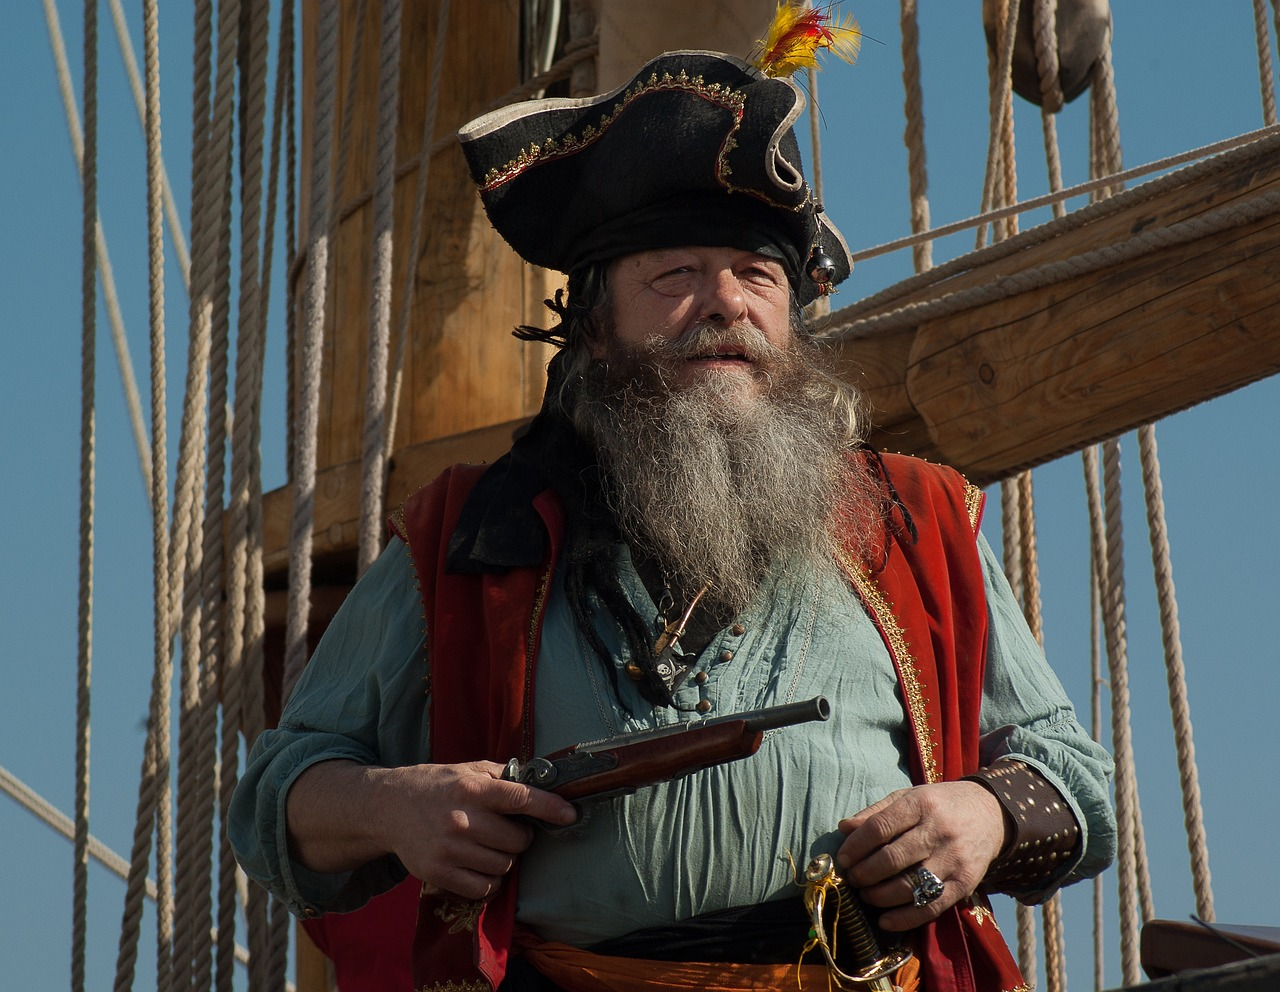gun: (406, 690, 836, 992)
knife: (776, 847, 919, 992)
